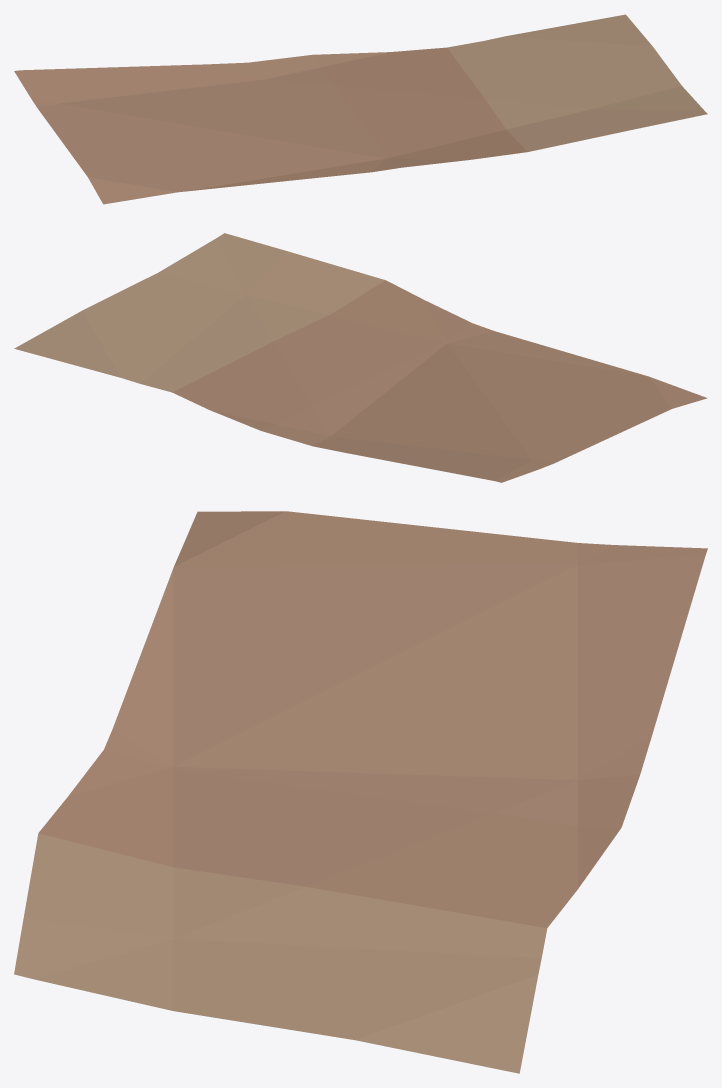
The model's file is farm_15_3_soil.glb.
The picture shows the model from 3 angles, top to bottom: view 1: azimuth 30°, elevation 25°; view 2: azimuth 150°, elevation 25°; view 3: azimuth 270°, elevation 25°; orthographic projection. The views are drawn at different scales.
Parts seen in each view (by area): view 1: geometry_0; view 2: geometry_0; view 3: geometry_0.
Boxes of the visible parts, bbox=[...] form: geometry_0: bbox=[14, 14, 707, 204]; geometry_0: bbox=[14, 233, 707, 482]; geometry_0: bbox=[14, 511, 707, 1073].
Bounding box in the file's own units: 239 × 14.27 × 137.
